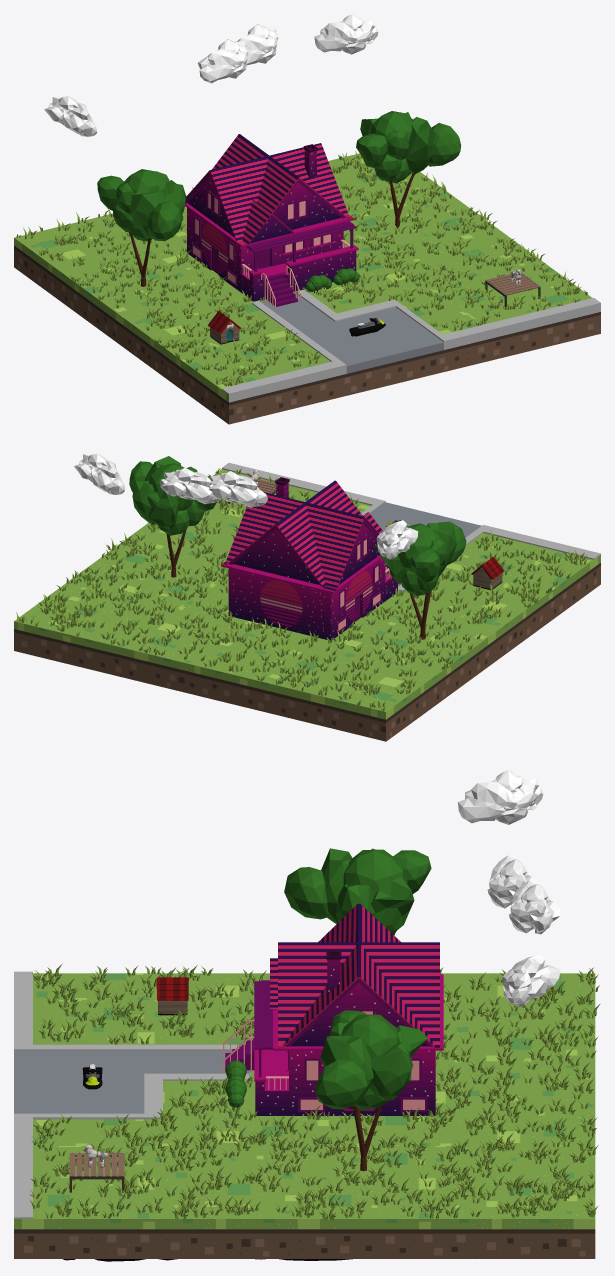
3 renders of one model, top to bottom at view 1: azimuth 30°, elevation 25°; view 2: azimuth 150°, elevation 25°; view 3: azimuth 270°, elevation 25°, orthographic. The views are drawn at different scales.
Visible parts, largest first — view 1: Cube.006, Cube.156, Circle.012_Grass_0.192, Cube.007, tree, tree.001, Cube.009, OBJRANDOM_DOGHOUSE; view 2: Cube.006, Cube.156, Circle.012_Grass_0.192, Cube.007, tree.001, tree, OBJRANDOM_DOGHOUSE; view 3: Cube.006, Circle.012_Grass_0.192, Cube.156, tree, Cube.007, tree.001, Cube.009, OBJRANDOM_DOGHOUSE.
Boxes of the visible parts, bbox=[...] form: Cube.006: bbox=[14, 153, 600, 424]; Cube.156: bbox=[185, 134, 358, 307]; Circle.012_Grass_0.192: bbox=[16, 151, 587, 386]; Cube.007: bbox=[44, 14, 378, 136]; tree: bbox=[356, 111, 460, 228]; tree.001: bbox=[97, 169, 186, 286]; Cube.009: bbox=[485, 273, 540, 306]; OBJRANDOM_DOGHOUSE: bbox=[208, 311, 241, 344]; Cube.006: bbox=[14, 463, 600, 741]; Cube.156: bbox=[221, 477, 397, 640]; Circle.012_Grass_0.192: bbox=[16, 468, 587, 711]; Cube.007: bbox=[74, 453, 418, 559]; tree.001: bbox=[374, 521, 466, 639]; tree: bbox=[129, 456, 216, 577]; OBJRANDOM_DOGHOUSE: bbox=[471, 557, 504, 589]; Cube.006: bbox=[14, 971, 595, 1258]; Circle.012_Grass_0.192: bbox=[29, 963, 600, 1220]; Cube.156: bbox=[223, 903, 443, 1115]; tree: bbox=[314, 1010, 427, 1171]; Cube.007: bbox=[457, 770, 560, 1007]; tree.001: bbox=[284, 848, 431, 935]; Cube.009: bbox=[69, 1152, 124, 1192]; OBJRANDOM_DOGHOUSE: bbox=[156, 977, 188, 1015].
Size of the model in its own units: 4071 by 2149 by 4040.
31 materials, 5 textured.
